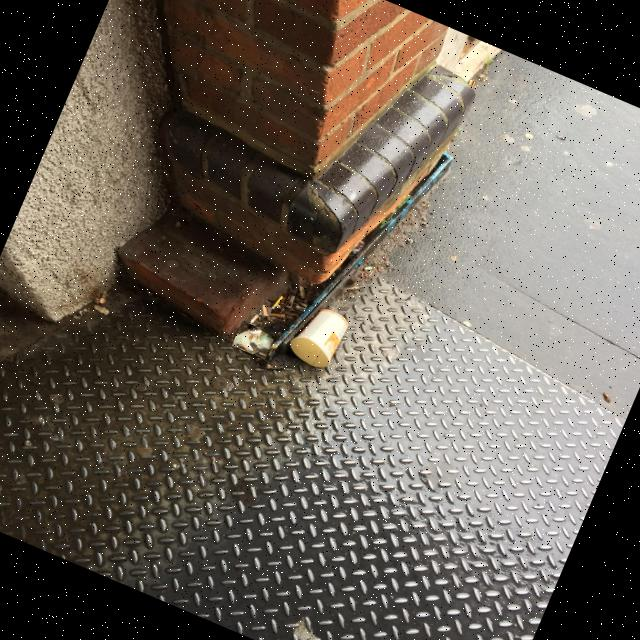Cigarette: (286, 294, 294, 308), (294, 299, 305, 308), (262, 305, 268, 318), (281, 293, 288, 304), (250, 316, 259, 324), (299, 286, 304, 299), (269, 313, 285, 317), (295, 306, 306, 310), (468, 79, 474, 86), (251, 330, 261, 334), (289, 313, 297, 317), (298, 306, 304, 311), (267, 334, 273, 339), (248, 328, 257, 330), (100, 298, 103, 303)
Paper cup: (290, 309, 348, 367)
Unlabeled litter: (234, 327, 272, 349)
